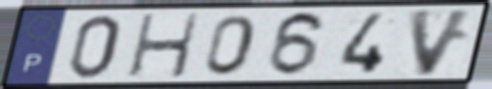0: (65, 13, 126, 81), (203, 14, 260, 77)
4: (337, 11, 389, 76)
6: (266, 9, 333, 80)
H: (126, 12, 202, 80)
V: (406, 7, 479, 79)
